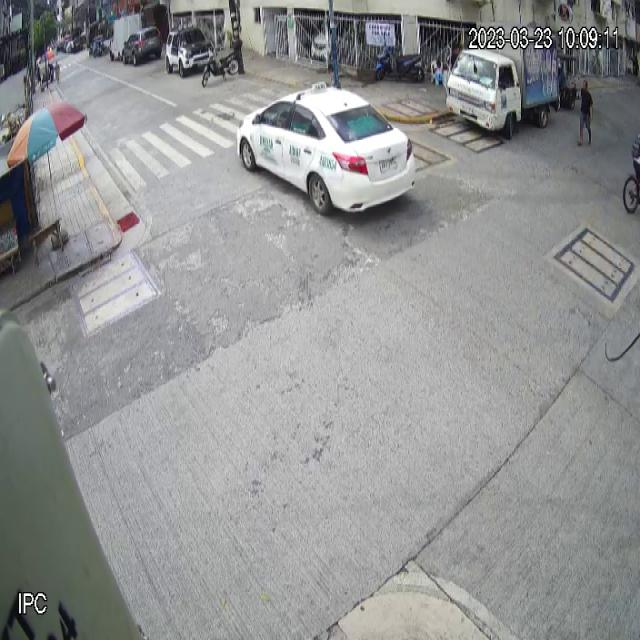Car: (237, 80, 417, 219)
Motorcycle: (375, 38, 424, 84), (202, 44, 241, 88)
Truck: (446, 22, 561, 140)
